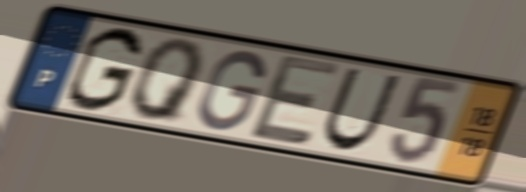5: (385, 74, 465, 170)
E: (246, 51, 345, 149)
G: (62, 24, 146, 115), (193, 48, 269, 134)
Q: (127, 37, 207, 126)
U: (319, 65, 405, 154)
